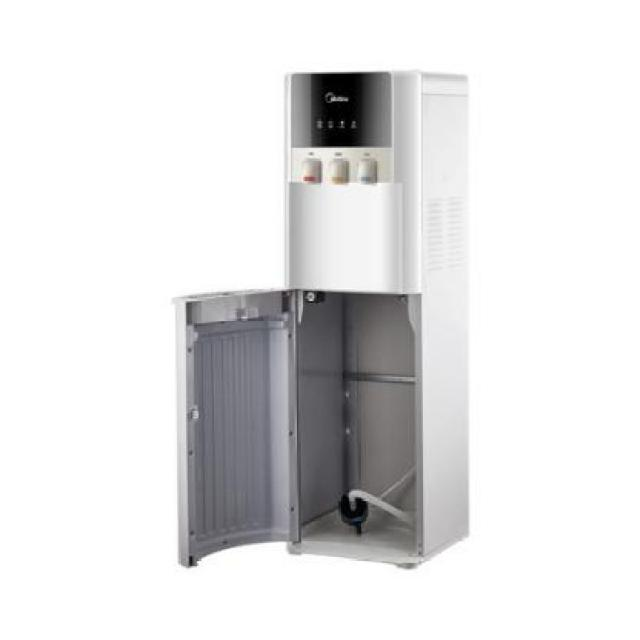cooler: (274, 63, 474, 575)
